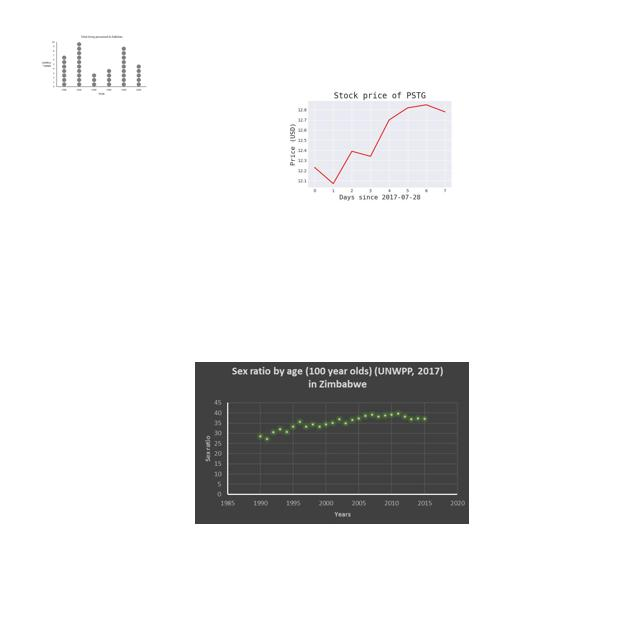Graph: (195, 362, 469, 524), (285, 74, 470, 213), (38, 33, 149, 98)
